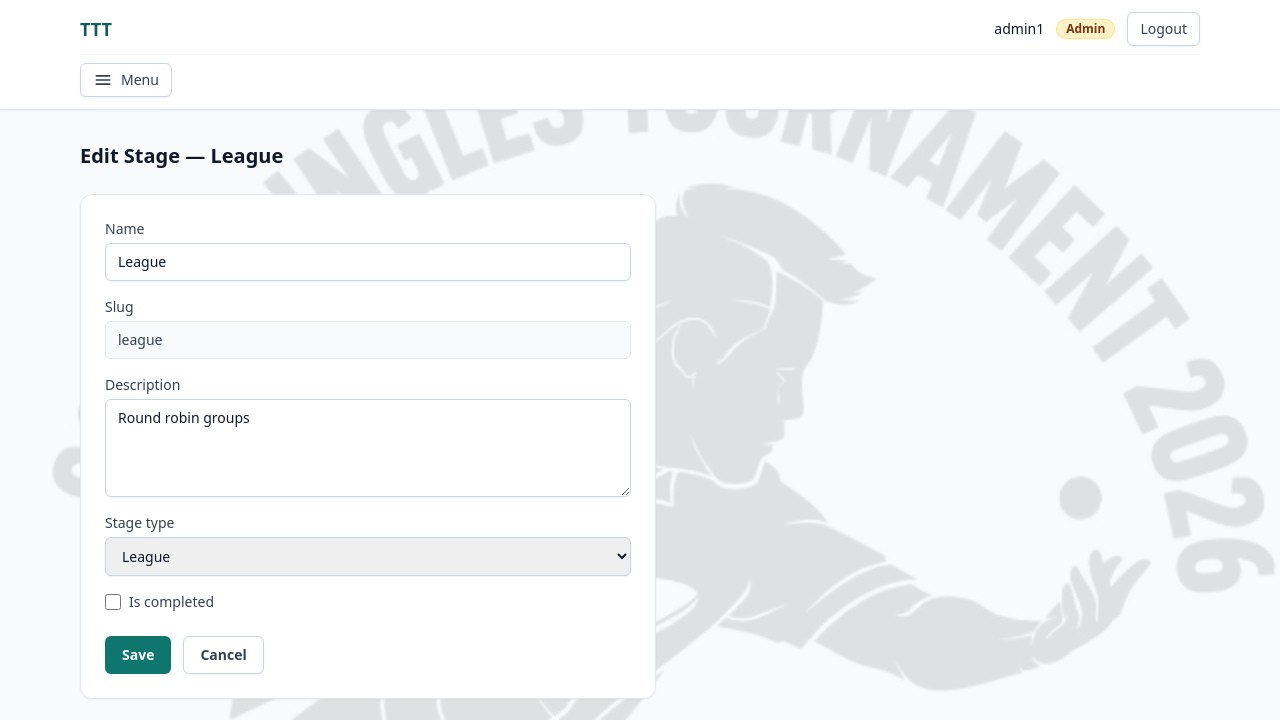
Edit stage › loads an existing stage and saves changes
Expected: the heading "Edit Stage — League" is shown, [80,142,283,170]
Expected: the text "league" is shown, [105,321,631,359]
Replace the text in the field labelled "Name" with "League Stage" at (368,262), box [105,243,631,281]
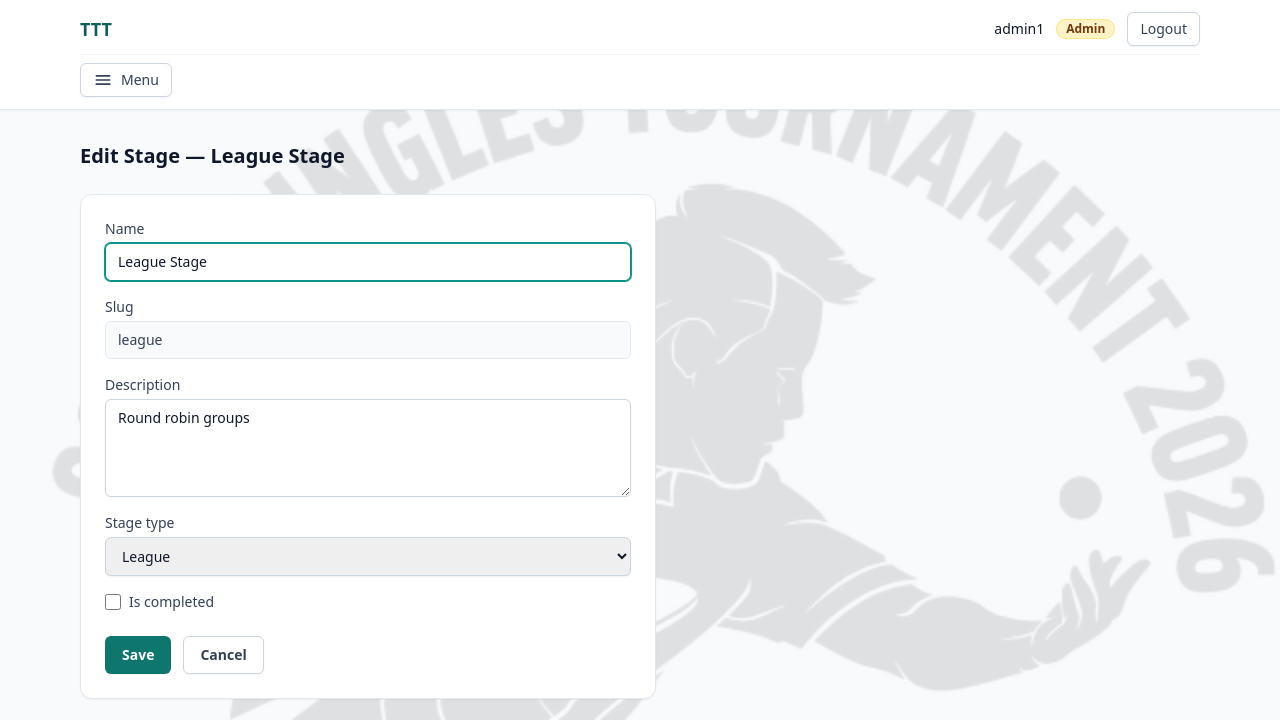
Click the checkbox labelled "Is completed" at (113,602), box [105,594,121,610]
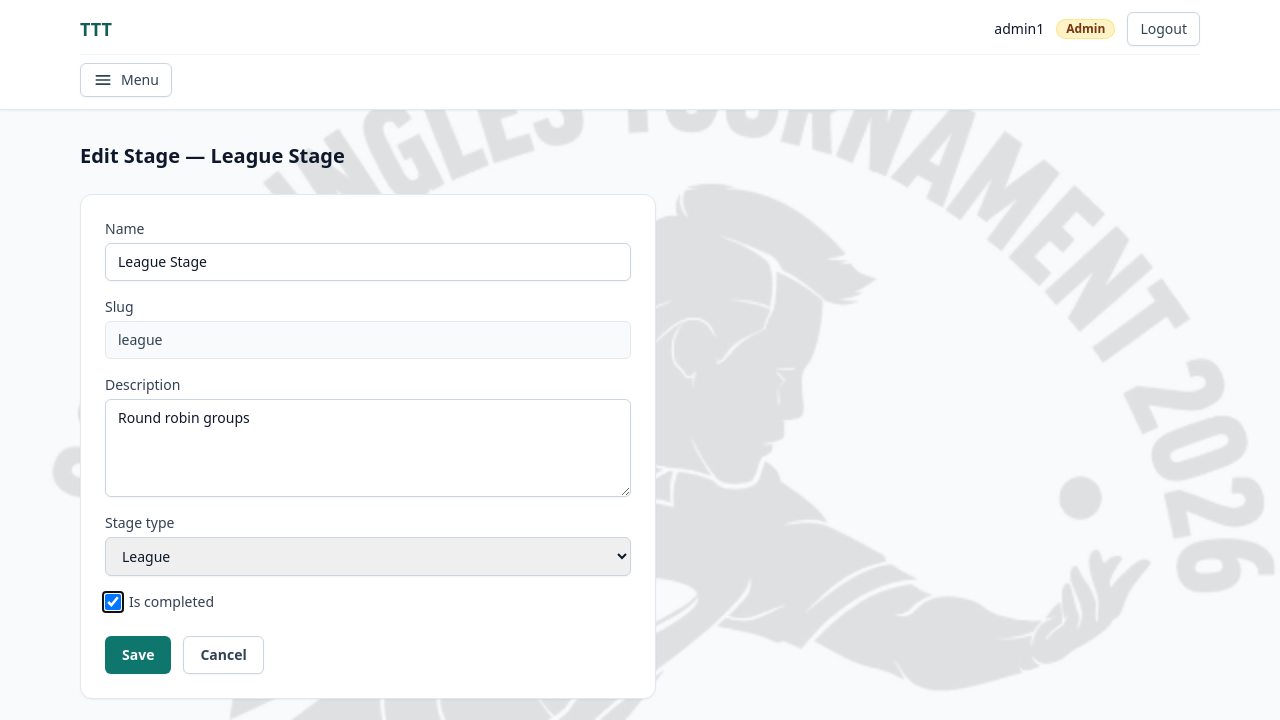
Click the button "Save" at (138,655), box [105,636,171,674]
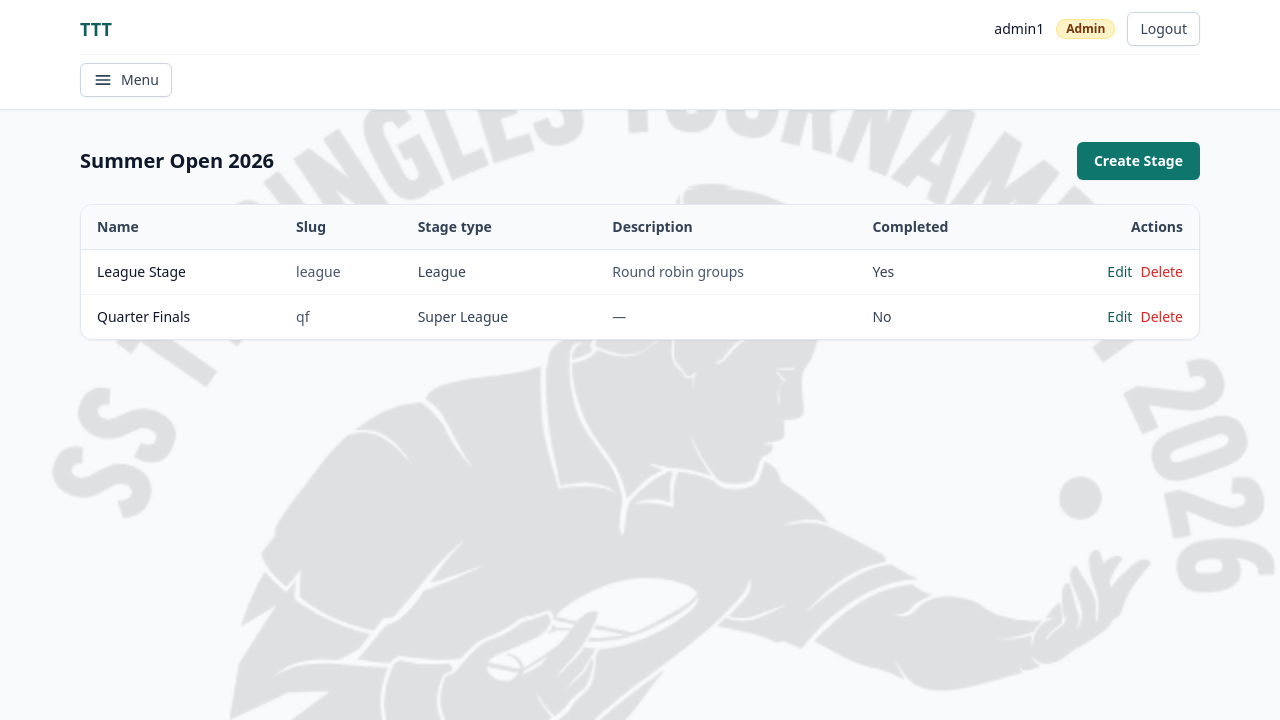
Result: the text "League Stage" is shown at [81,250,280,294]
Result: the heading "Summer Open 2026" is shown at [80,147,274,175]
Result: the text "Yes" is shown at [856,250,1028,294]
